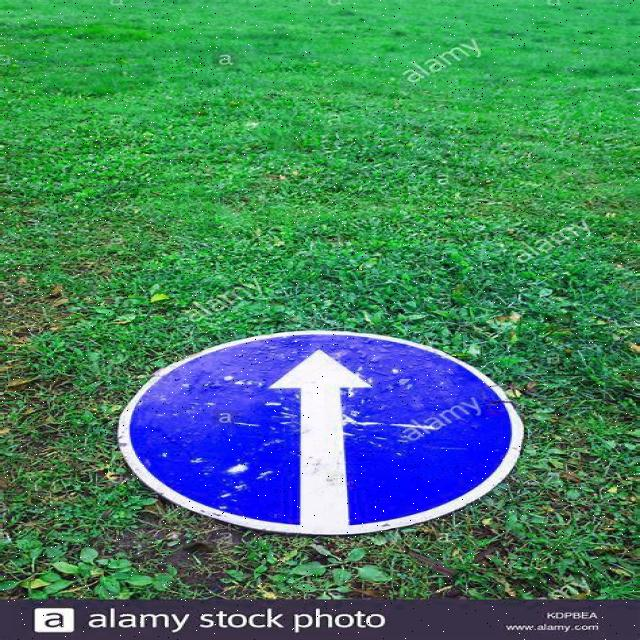compulsory_ahead: (122, 326, 519, 542)
